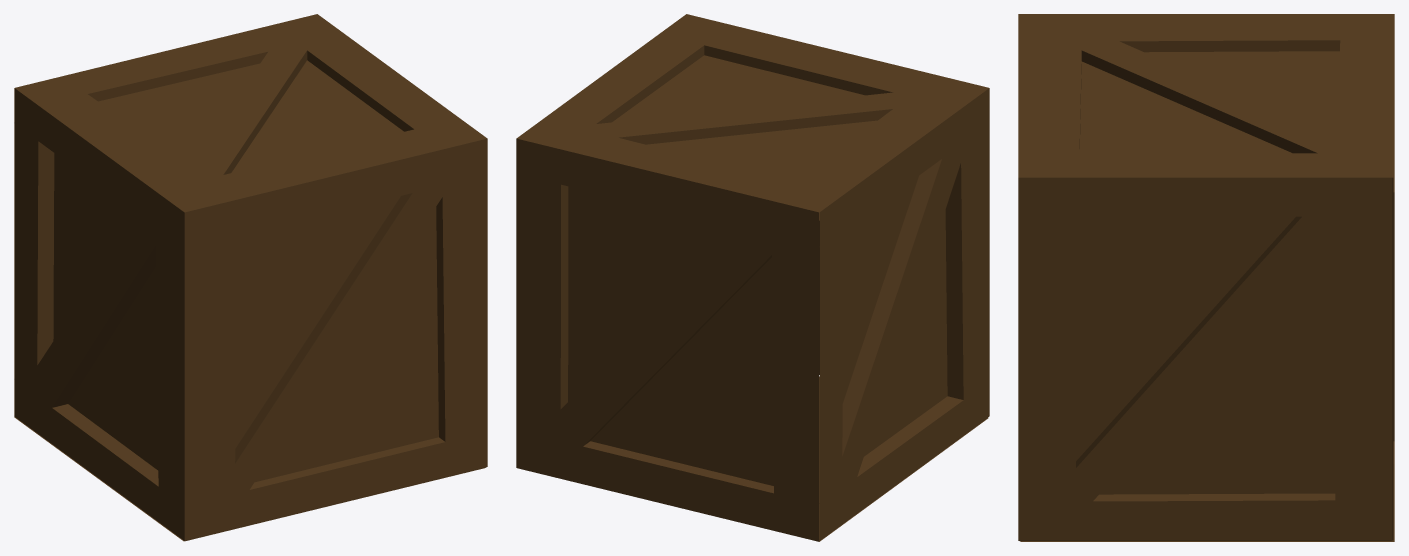
The model's file is Train Crate Textured.fbx.
3 views of the same model, side by side, from view 1: azimuth 30°, elevation 25°; view 2: azimuth 150°, elevation 25°; view 3: azimuth 270°, elevation 25° (orthographic). The views are drawn at different scales.
Visible parts, largest first — view 1: pCube1; view 2: pCube1; view 3: pCube1.
Boxes of the visible parts, box(x1,y1,x2,y2) form: pCube1: box(14, 14, 487, 541); pCube1: box(516, 14, 989, 541); pCube1: box(1018, 14, 1394, 541).
Size of the model in its own units: 6.9 by 7.17 by 6.71.
1 material, 1 textured.
